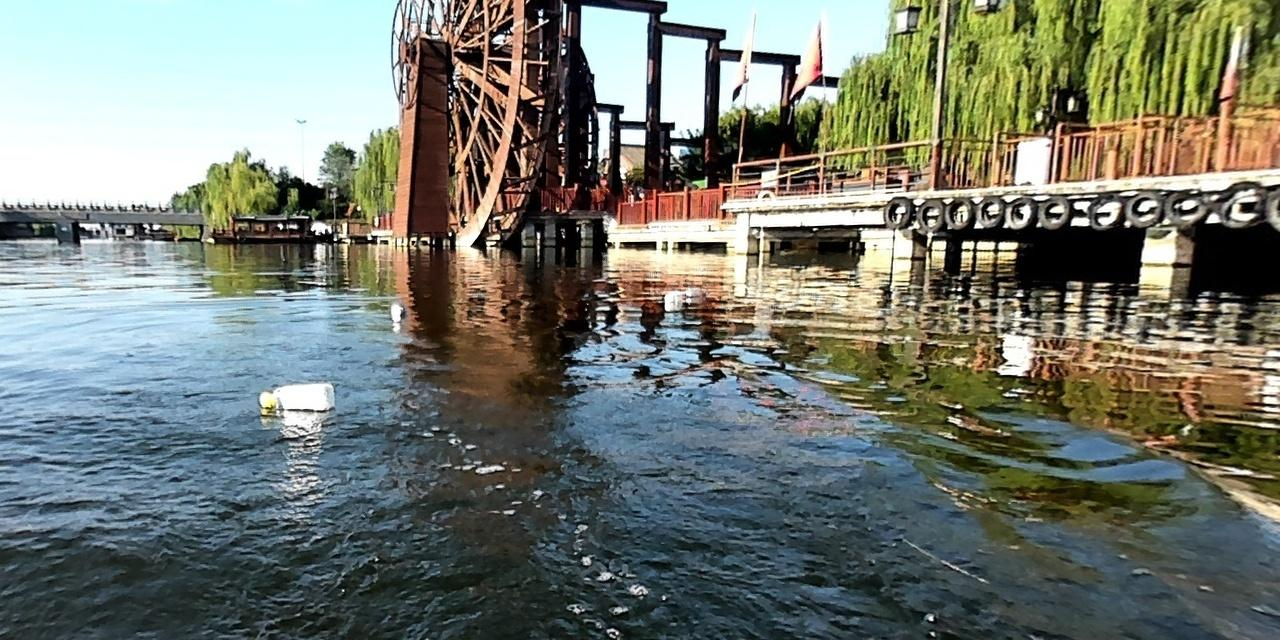bottle: (252, 376, 337, 415)
